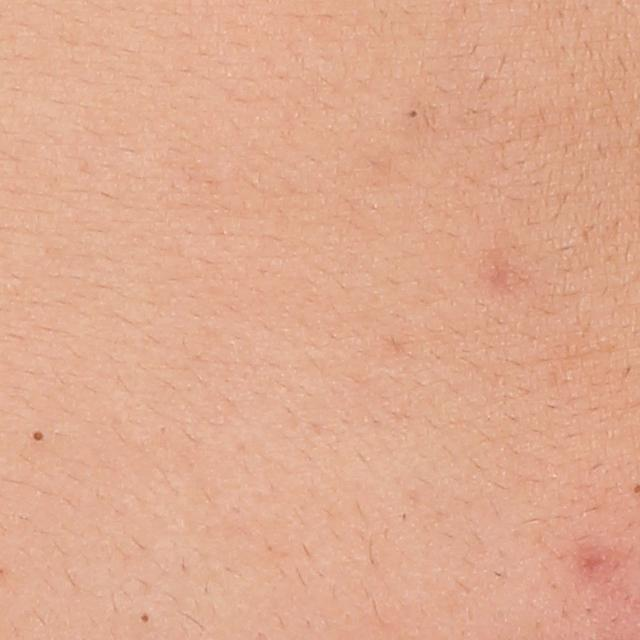comedo: (28, 424, 51, 445), (406, 101, 424, 124), (136, 608, 152, 629)
